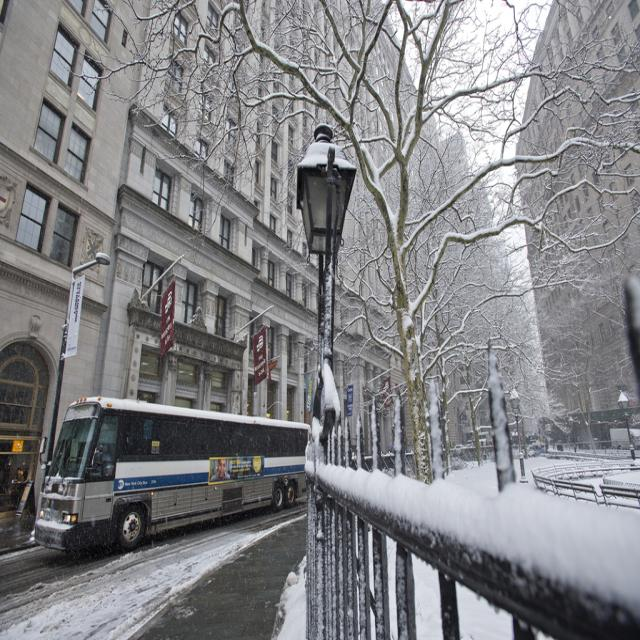Buses: (33, 396, 311, 563)
